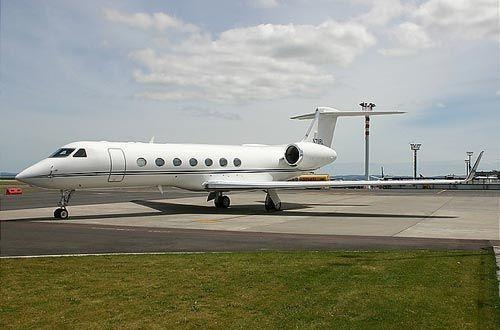airplane: (16, 108, 401, 218)
